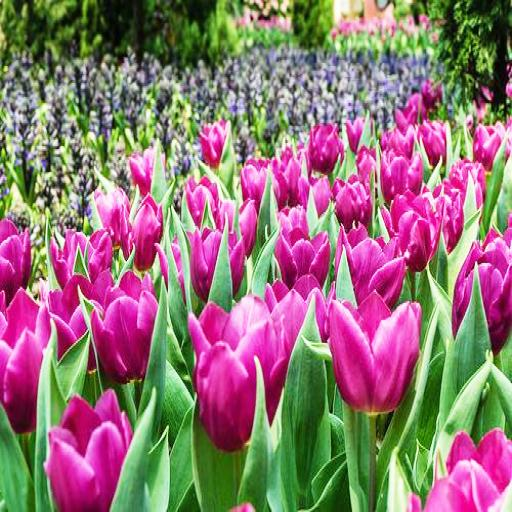tulip: (192, 294, 282, 442), (329, 286, 423, 412), (49, 390, 135, 512), (449, 223, 512, 375), (411, 418, 512, 512), (90, 277, 159, 380), (262, 276, 339, 356), (343, 226, 403, 315), (190, 223, 248, 301), (390, 186, 441, 274), (49, 276, 95, 362), (275, 229, 332, 285), (452, 149, 494, 218), (50, 222, 88, 292), (130, 200, 168, 269), (305, 120, 345, 174), (334, 174, 375, 224), (196, 115, 236, 166), (475, 117, 512, 171), (130, 143, 169, 194), (86, 223, 115, 281), (241, 151, 272, 201), (304, 170, 335, 216)
